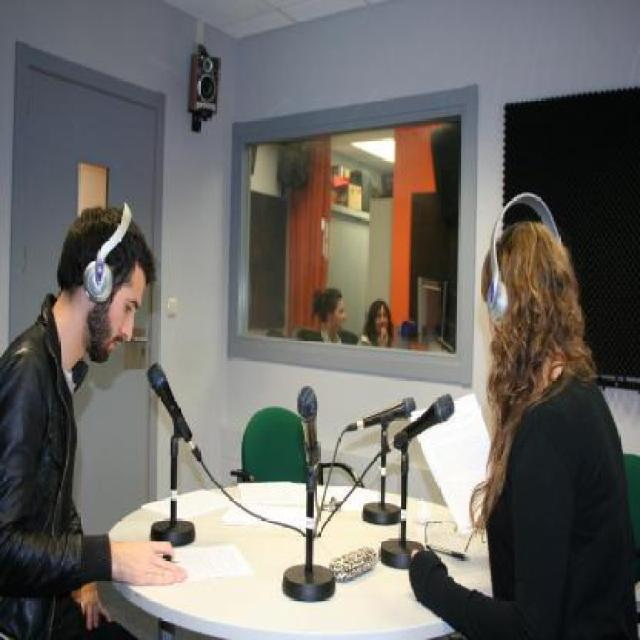earphone: (485, 175, 548, 323), (76, 160, 126, 308)
